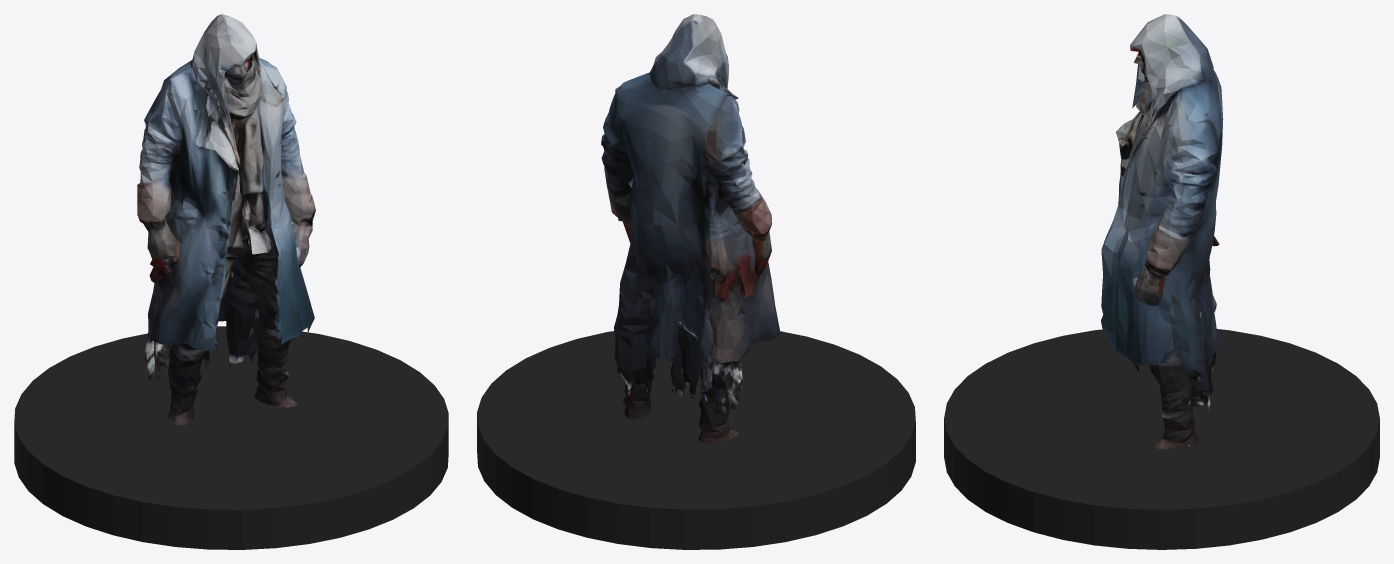
Rendered from zombie-shambler.glb.
The picture shows the model from 3 angles, left to right: view 1: azimuth 30°, elevation 25°; view 2: azimuth 150°, elevation 25°; view 3: azimuth 270°, elevation 25°; orthographic projection.
Visible parts, largest first — view 1: base, figure; view 2: base, figure; view 3: base, figure.
Boxes of the visible parts, left/top/right/bottom form: base: left=14, top=326, right=448, bottom=549; figure: left=137, top=14, right=315, bottom=425; base: left=477, top=324, right=915, bottom=549; figure: left=601, top=14, right=780, bottom=443; base: left=944, top=329, right=1379, bottom=549; figure: left=1101, top=14, right=1223, bottom=449.
Size of the model in its own units: 1.18 by 1.32 by 1.18.
2 materials, 1 textured.
